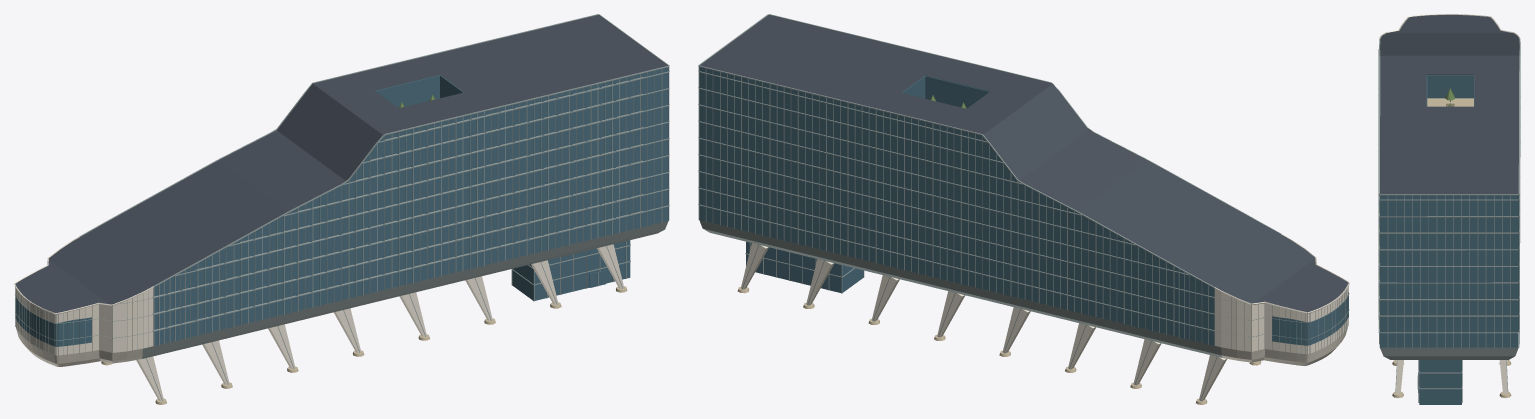
The model's file is ing-house.glb.
The picture shows the model from 3 angles, left to right: view 1: azimuth 30°, elevation 25°; view 2: azimuth 150°, elevation 25°; view 3: azimuth 270°, elevation 25°; orthographic projection.
Parts seen in each view (by area): view 1: ing-house; view 2: ing-house; view 3: ing-house.
Boxes of the visible parts, x1,y1,x2,y2 form: ing-house: [14, 14, 669, 404]; ing-house: [698, 14, 1349, 404]; ing-house: [1378, 14, 1520, 404].
Size of the model in its own units: 138 by 48.56 by 28.39.
